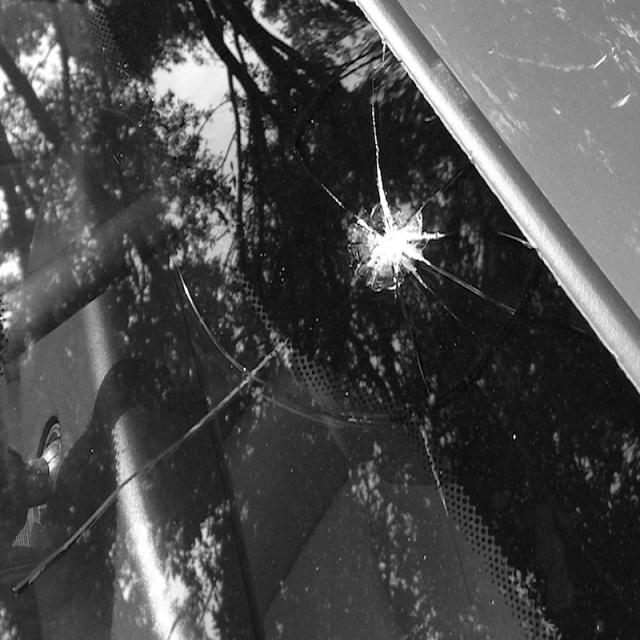crack: (313, 84, 522, 333)
